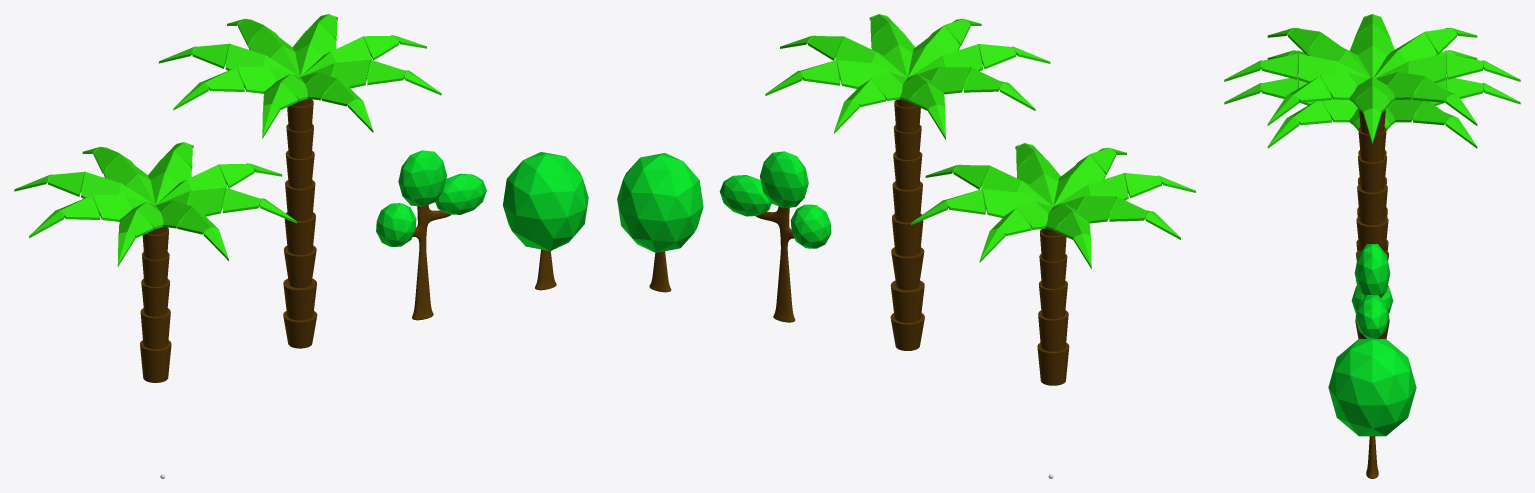
File: plam.fbx
3 views of the same model, side by side, from view 1: azimuth 30°, elevation 25°; view 2: azimuth 150°, elevation 25°; view 3: azimuth 270°, elevation 25° (orthographic).
Parts seen in each view (by area): view 1: Circle, Icosphere.003, Circle.001, Icosphere, Plane.012, Plane.003, Plane.006, Plane.009, Plane.007, Plane.008, Plane.013, Plane.002 (+12 smaller); view 2: Circle, Icosphere.003, Circle.001, Icosphere, Plane.001, Plane.014, Plane.009, Plane.006, Plane.010, Plane.016, Plane.002, Plane.013 (+12 smaller); view 3: Icosphere.003, Circle, Plane, Plane.004, Plane.003, Plane.001, Plane.007, Plane.016, Plane.006, Plane.012, Plane.014, Icosphere (+6 smaller).
Boxes of the visible parts, <box> form: Circle: <box>283,99,317,348</box>; Icosphere.003: <box>503,152,588,250</box>; Circle.001: <box>140,227,171,382</box>; Icosphere: <box>398,150,446,206</box>; Plane.012: <box>157,187,296,223</box>; Plane.003: <box>302,59,441,95</box>; Plane.006: <box>173,66,289,110</box>; Plane.009: <box>29,194,145,238</box>; Plane.007: <box>158,43,299,76</box>; Plane.008: <box>14,171,154,204</box>; Plane.013: <box>156,163,282,204</box>; Plane.002: <box>301,35,426,76</box>; Circle: <box>890,99,924,350</box>; Icosphere.003: <box>617,153,703,252</box>; Circle.001: <box>1037,228,1069,385</box>; Icosphere: <box>760,151,808,208</box>; Plane.001: <box>765,60,906,95</box>; Plane.014: <box>911,189,1052,224</box>; Plane.009: <box>1063,196,1180,239</box>; Plane.006: <box>918,67,1035,110</box>; Plane.010: <box>1055,173,1195,205</box>; Plane.016: <box>909,44,1050,76</box>; Plane.002: <box>780,35,907,77</box>; Plane.013: <box>925,164,1052,206</box>; Icosphere.003: <box>1328,339,1416,436</box>; Circle: <box>1355,109,1389,338</box>; Plane: <box>1375,53,1520,83</box>; Plane.004: <box>1224,53,1369,82</box>; Plane.003: <box>1267,72,1368,125</box>; Plane.001: <box>1376,72,1477,125</box>; Plane.007: <box>1374,28,1477,77</box>; Plane.016: <box>1267,28,1370,77</box>; Plane.006: <box>1350,14,1394,76</box>; Plane.012: <box>1267,98,1357,148</box>; Plane.014: <box>1387,97,1477,148</box>; Icosphere: <box>1354,244,1390,297</box>.
Size of the model in its own units: 7476 by 5053 by 3428.
